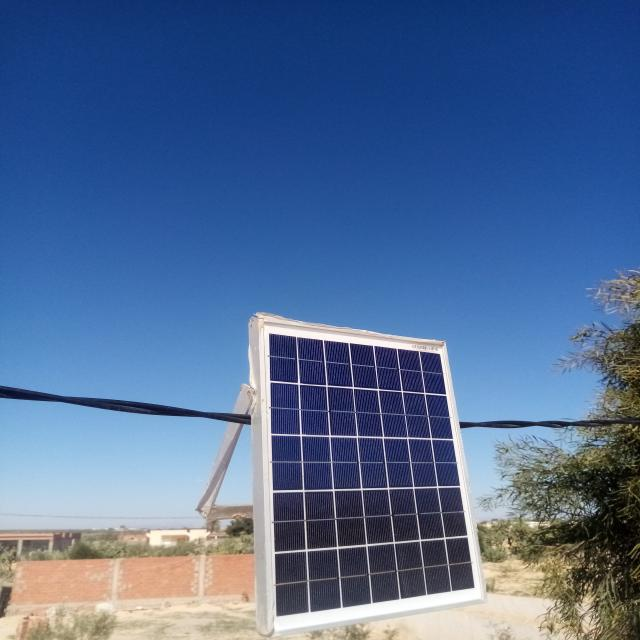no faulty: (256, 322, 478, 629)
